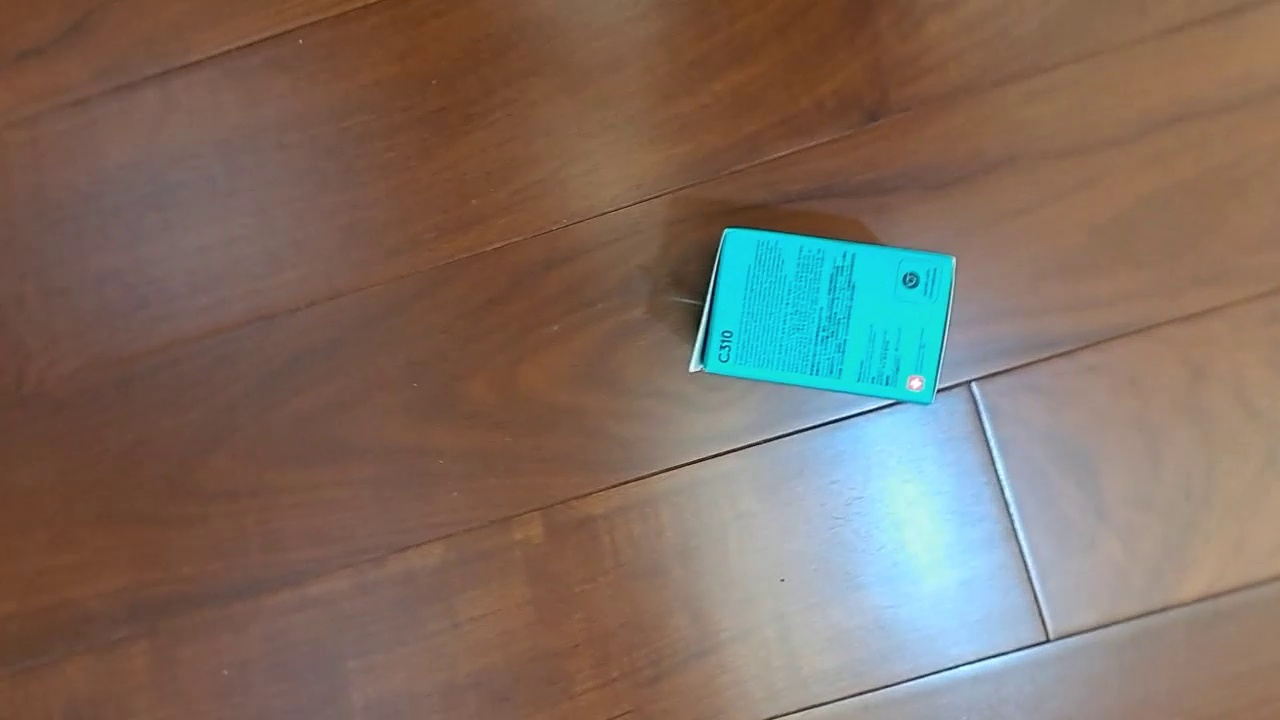webcam: (688, 227, 957, 406)
